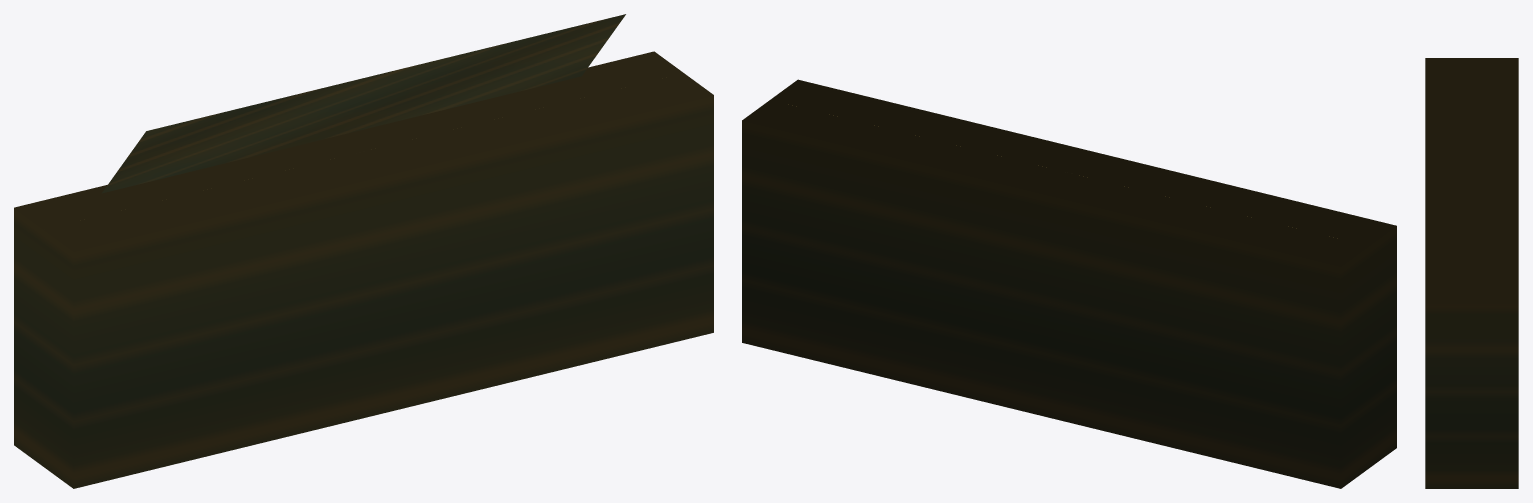
Rendered from trap_t2_tripwire_grenade.glb.
3 renders of one model, left to right at view 1: azimuth 30°, elevation 25°; view 2: azimuth 150°, elevation 25°; view 3: azimuth 270°, elevation 25°, orthographic. The views are drawn at different scales.
Visible parts, largest first — view 1: trap_t2_tripwire_grenade; view 2: trap_t2_tripwire_grenade; view 3: trap_t2_tripwire_grenade.
Boxes of the visible parts, bbox=[...] form: trap_t2_tripwire_grenade: bbox=[14, 14, 713, 488]; trap_t2_tripwire_grenade: bbox=[742, 79, 1396, 488]; trap_t2_tripwire_grenade: bbox=[1425, 58, 1518, 488].
Bounding box in the file's own units: 0.62 × 0.308 × 0.1.
Materials: 1 (1 with a texture image).
